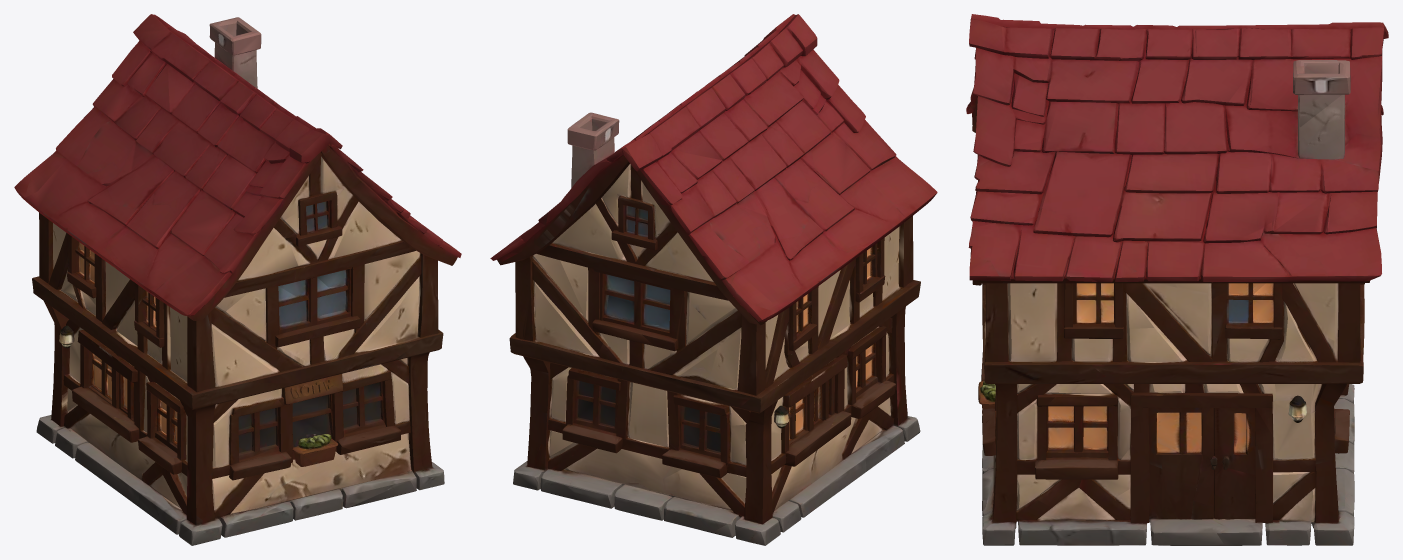
The picture shows the model from 3 angles, left to right: view 1: azimuth 30°, elevation 25°; view 2: azimuth 150°, elevation 25°; view 3: azimuth 270°, elevation 25°; orthographic projection. The views are drawn at different scales.
Visible parts, largest first — view 1: model; view 2: model; view 3: model.
Boxes of the visible parts, bbox=[...] form: model: bbox=[14, 14, 461, 545]; model: bbox=[490, 14, 937, 545]; model: bbox=[966, 14, 1388, 545].
Size of the model in its own units: 1.43 by 1.9 by 1.59.
Materials: 1 (1 with a texture image).
